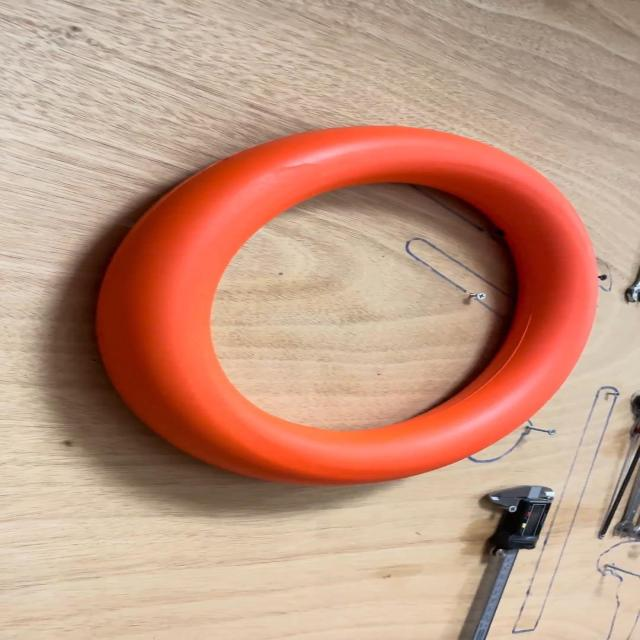note: (92, 124, 602, 488)
